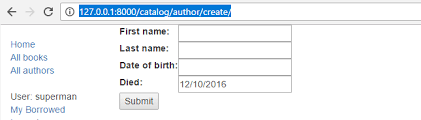button: (116, 90, 163, 112)
textbox: (177, 76, 295, 94), (177, 58, 294, 76)
